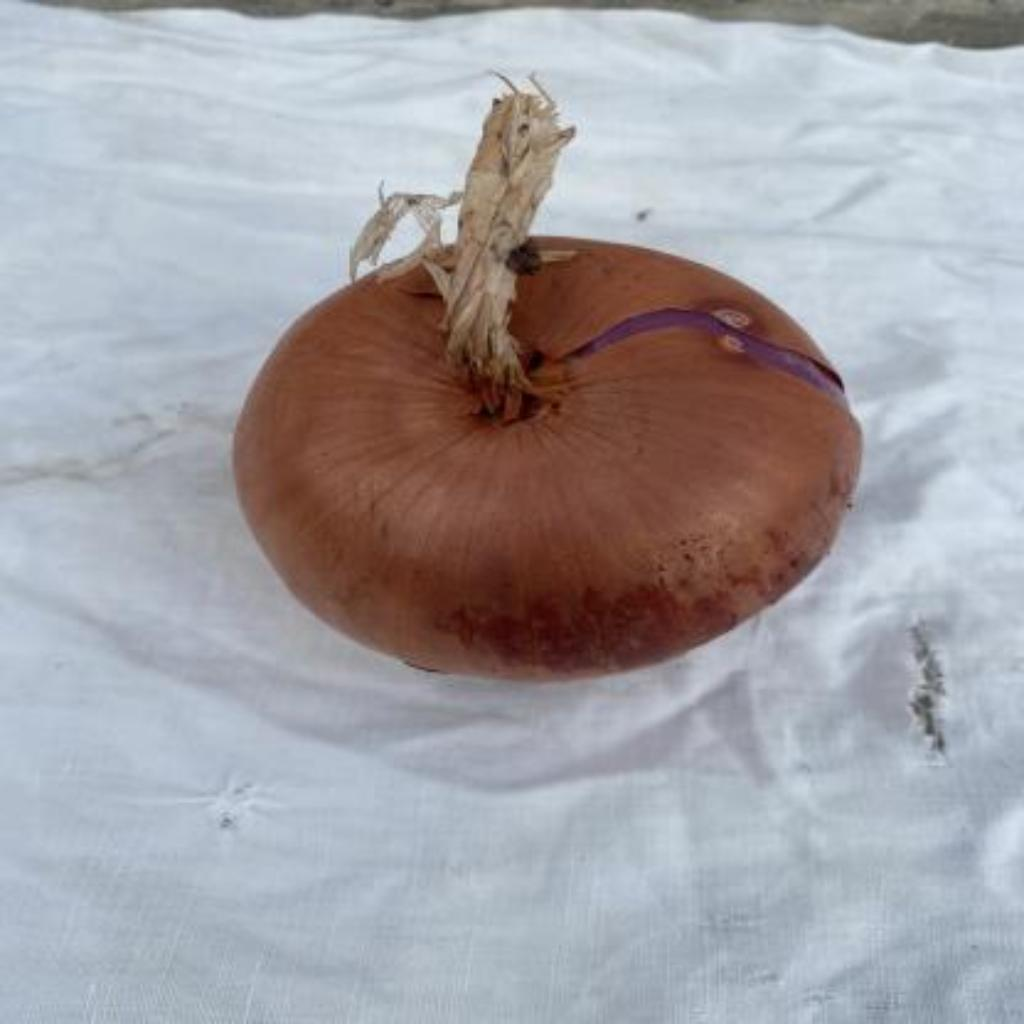Onion: (234, 79, 864, 678)
